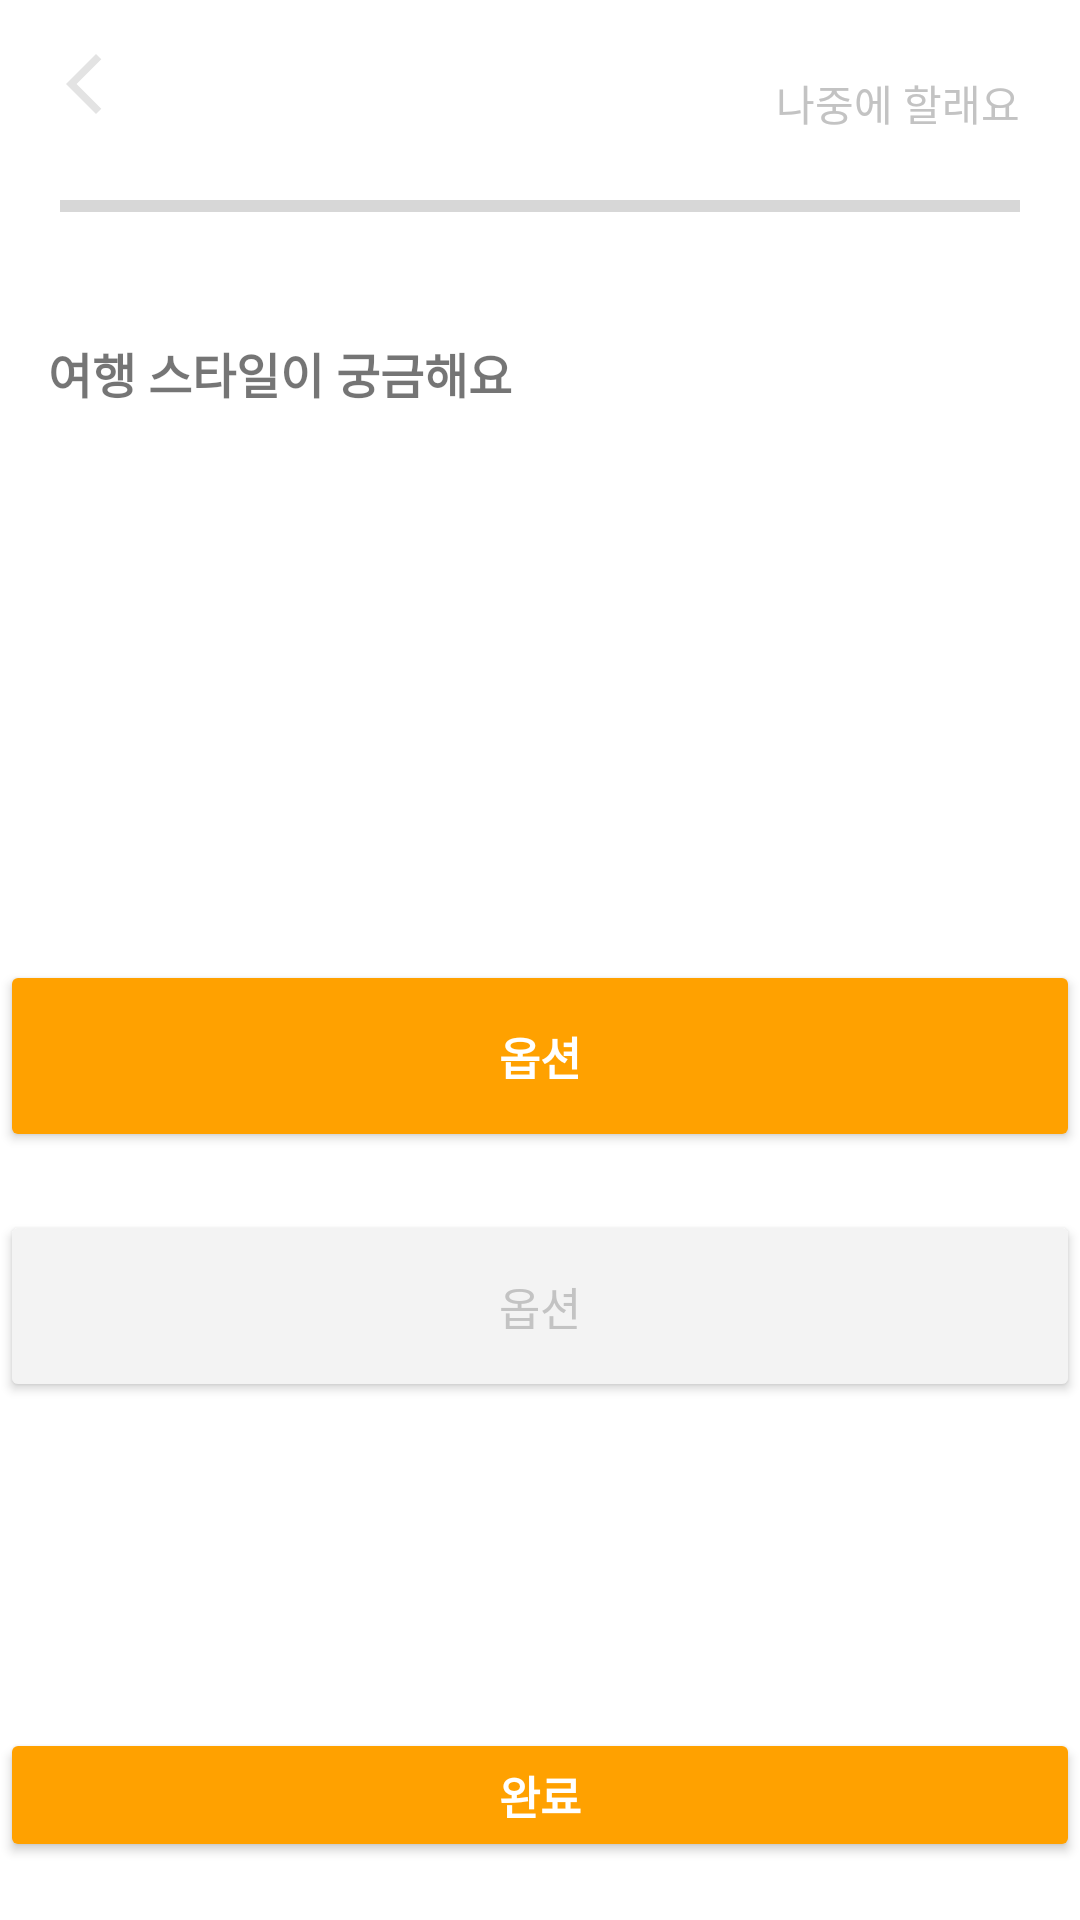

Icons on this 1080 × 1920 Android screen, each with the point to tap as (x=x, y=y):
이전으로: (x=84, y=84)
